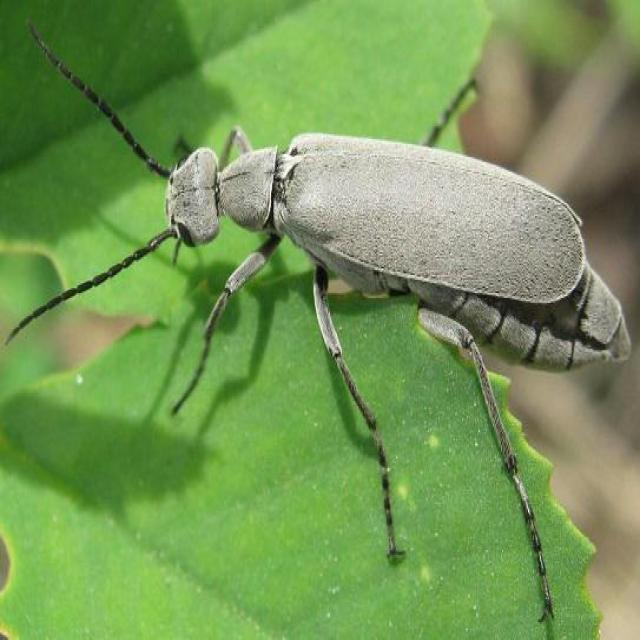BlisterBeetle-Adult-: (23, 17, 637, 541)
